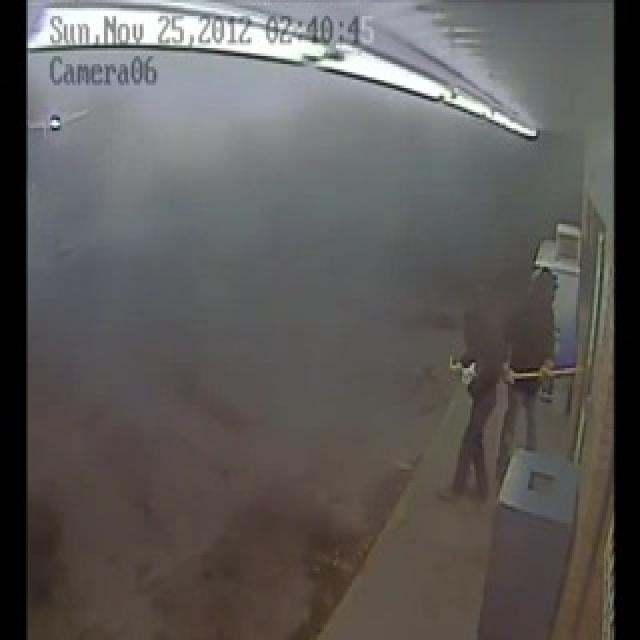thief: (452, 266, 566, 471)
